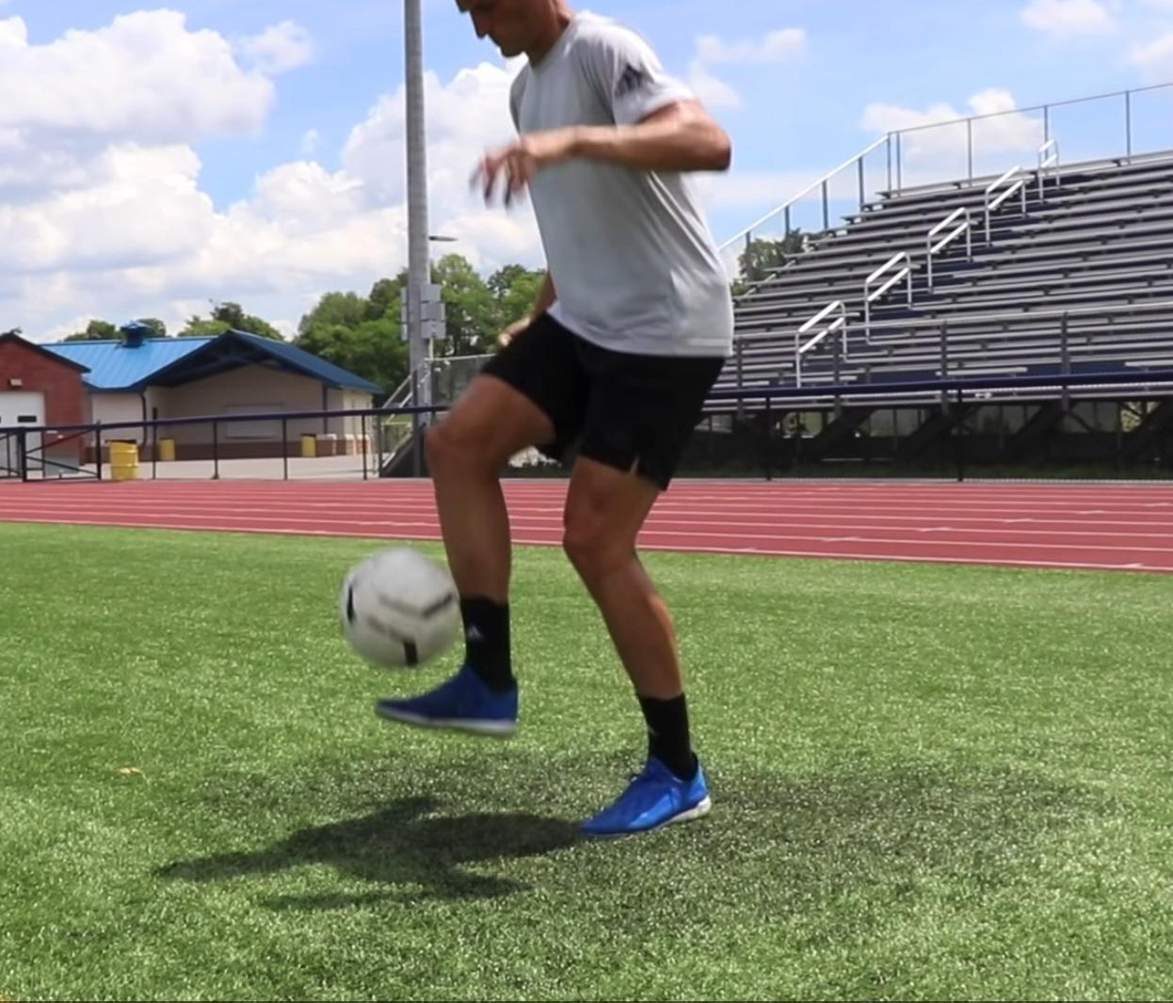ball: (336, 549, 466, 673)
foot: (574, 751, 710, 836), (371, 668, 520, 740)
person: (375, 0, 741, 836)
